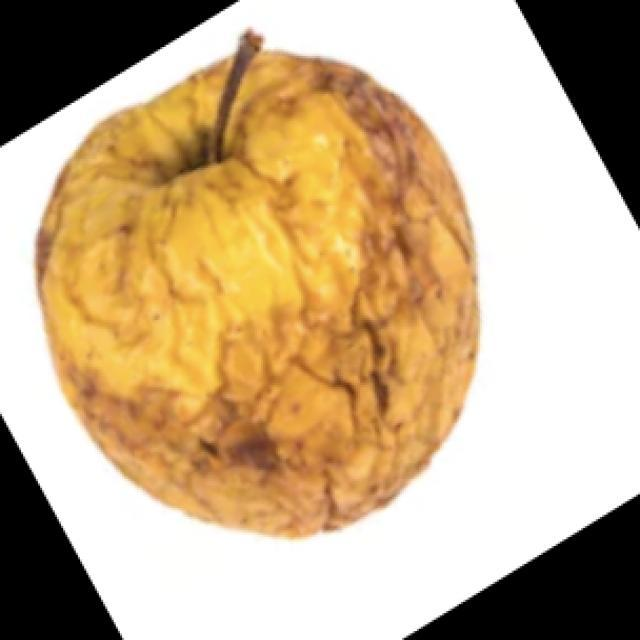Rotten: (35, 50, 475, 537)
